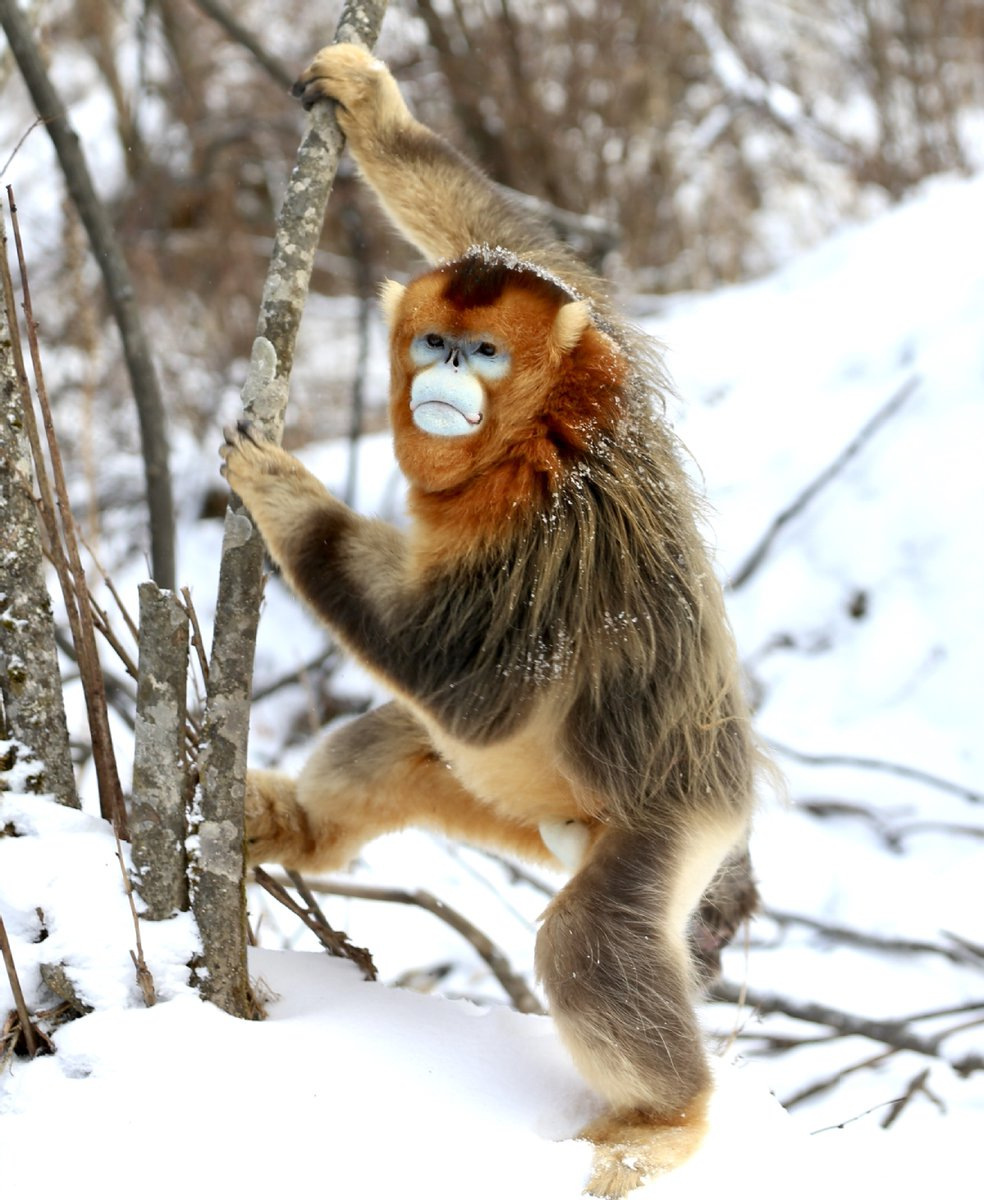GoldenSnub-Nosed: (256, 85, 776, 1162)
